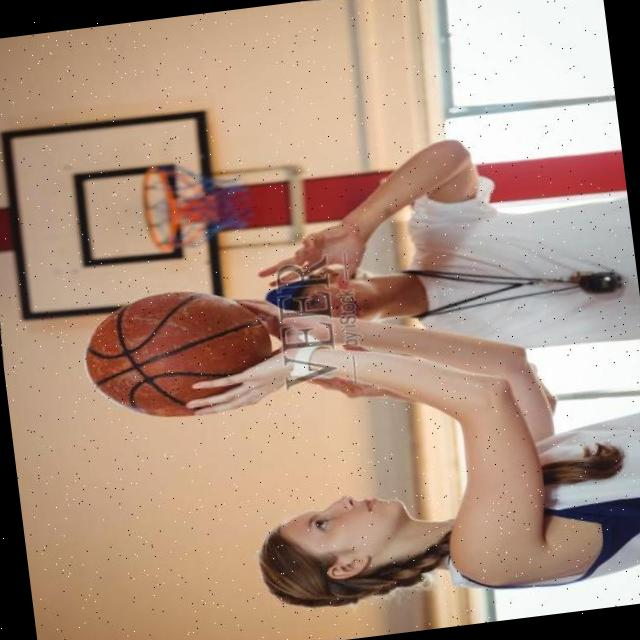ball: (76, 278, 280, 430)
